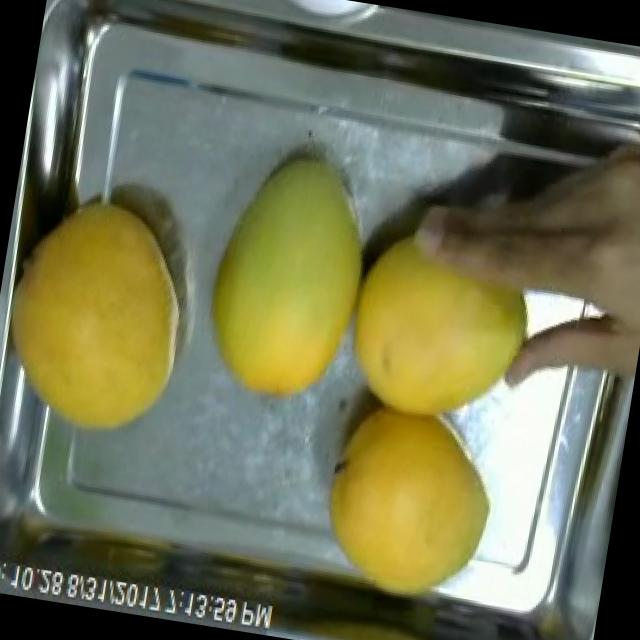fruit: (186, 125, 404, 422), (321, 185, 561, 448), (0, 178, 210, 454), (304, 388, 516, 620), (509, 110, 640, 396)
